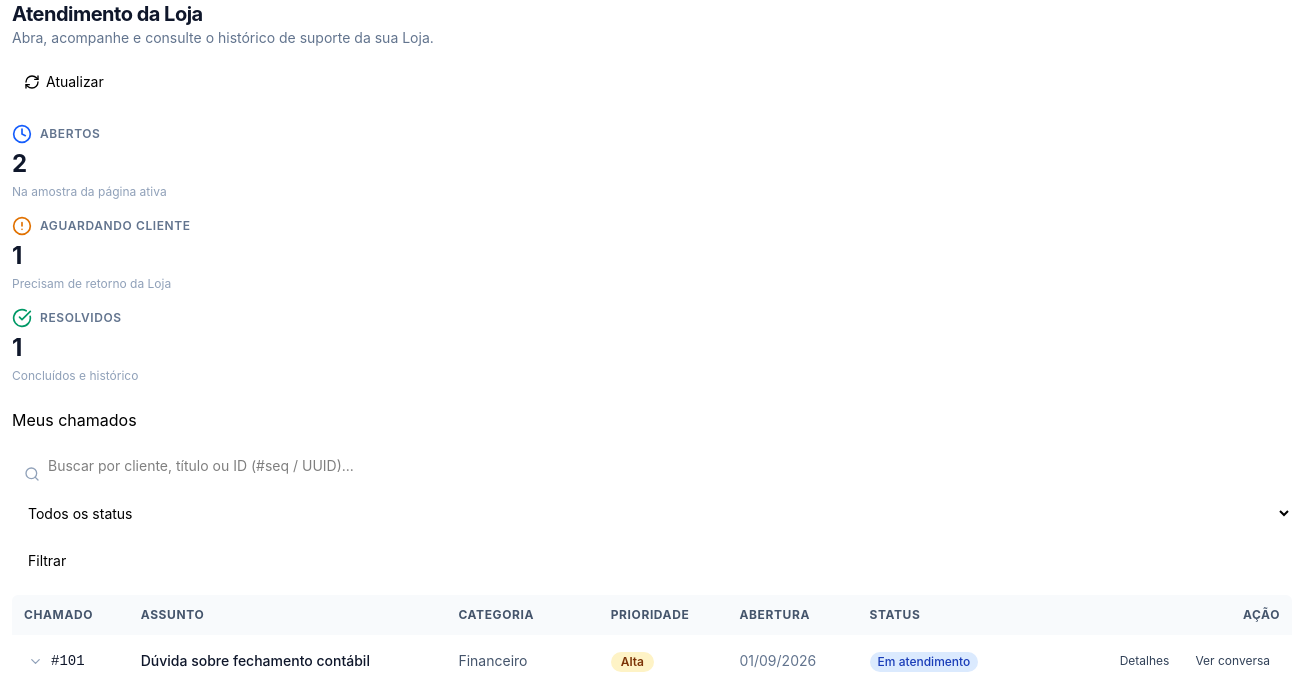
Test: Chamados (view-chamados) › expands and collapses inline row drawer displaying update history and attachments info
This screenshot has width=1304, height=700.
Expected: the text "Dúvida sobre fechamento contábil" is shown, [129,635,446,687]
Click the button named "Detalhes do chamado #101" at (36, 661), box [24,650,47,672]
(page scrolled)
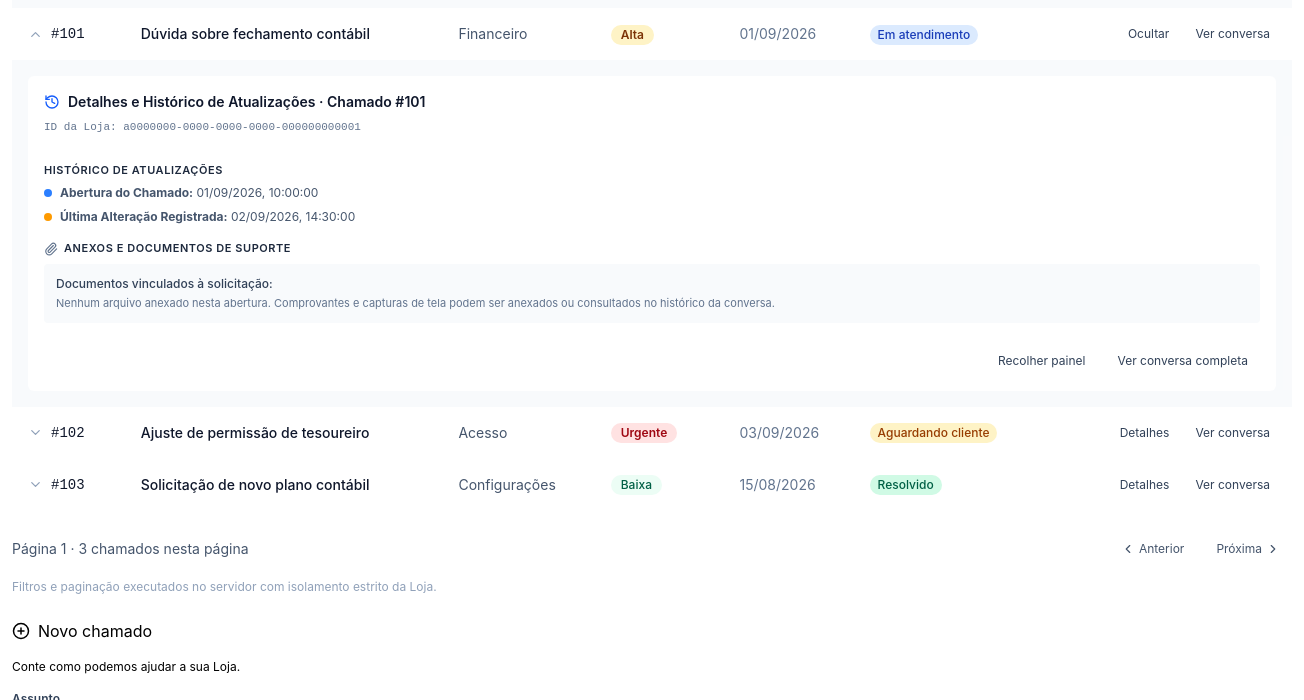
Result: the text "Detalhes e Histórico de Atualizações · Chamado #101" is shown at [68,92,426,112]
Result: the text "Anexos e Documentos de Suporte" is shown at [64,241,291,256]
Click the button "Recolher painel" at (1042, 361), box [986,347,1098,375]
(page scrolled)
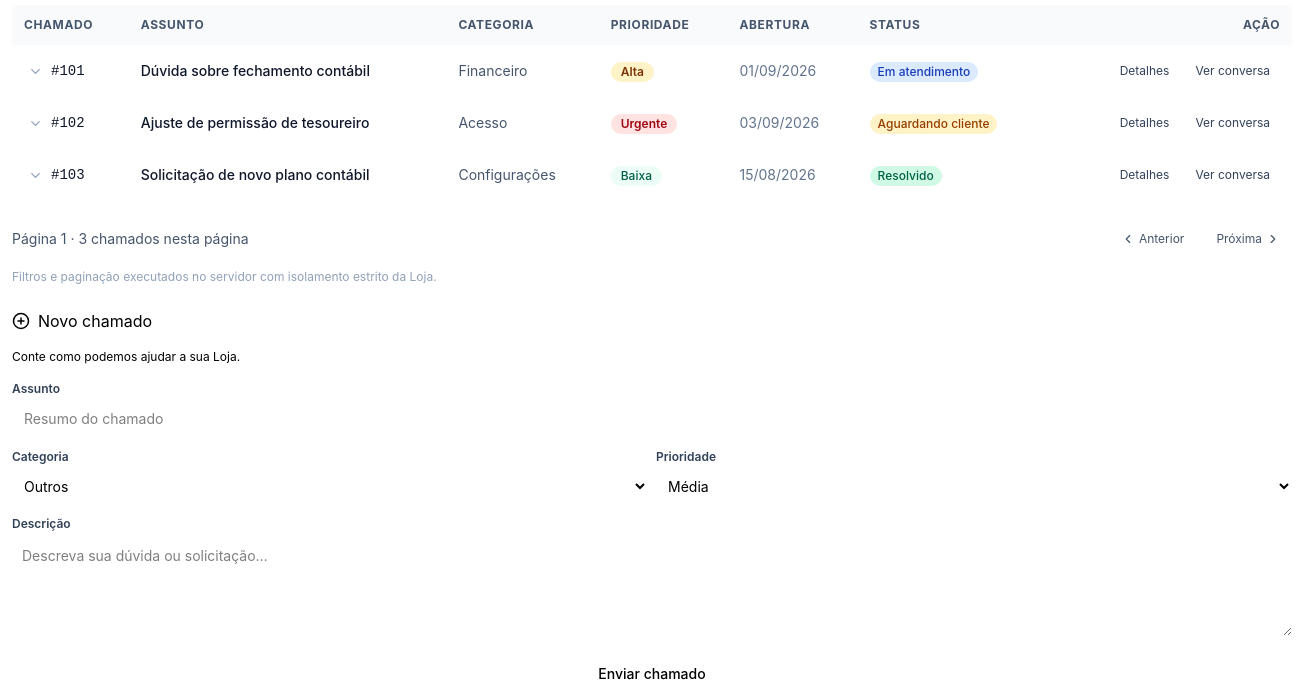
Result: the text "Detalhes e Histórico de Atualizações · Chamado #101" is gone
